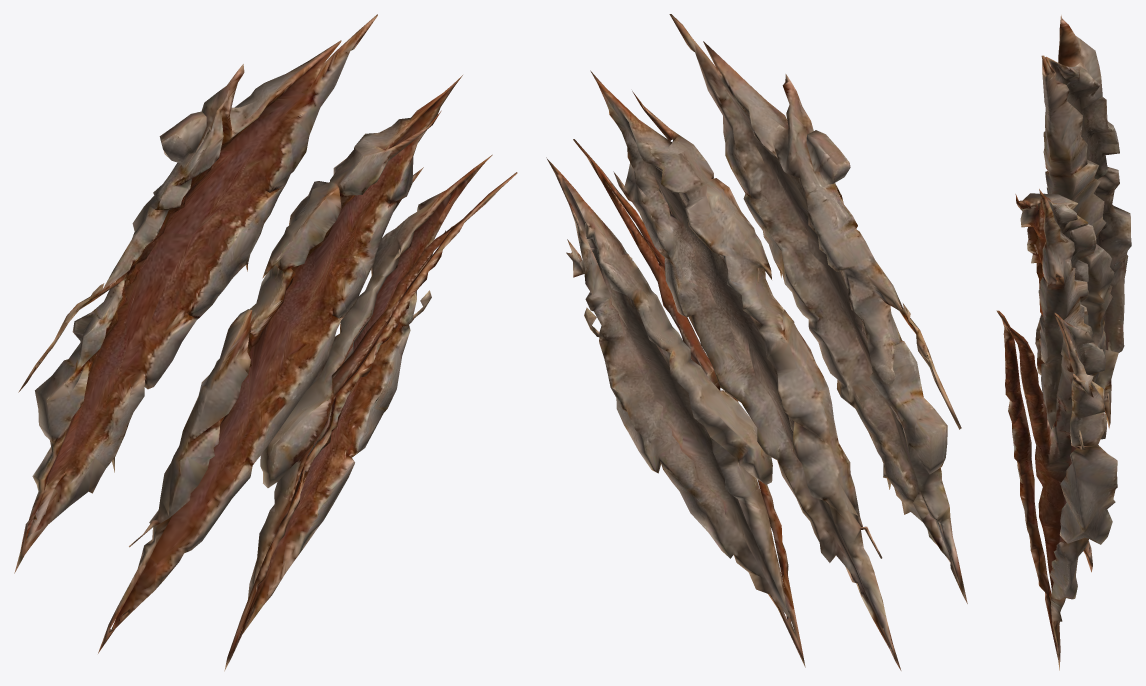
File: marcas_de_garra.glb
3 views of the same model, side by side, from view 1: azimuth 30°, elevation 25°; view 2: azimuth 150°, elevation 25°; view 3: azimuth 270°, elevation 25° (orthographic). The views are drawn at different scales.
Visible parts, largest first — view 1: marcas_de_garra; view 2: marcas_de_garra; view 3: marcas_de_garra.
Boxes of the visible parts, x1,y1,x2,y2 form: marcas_de_garra: (14, 14, 517, 671); marcas_de_garra: (546, 14, 967, 670); marcas_de_garra: (996, 15, 1131, 670).
Size of the model in its own units: 0.6836 by 0.9001 by 0.159.
Materials: 1 (1 with a texture image).
